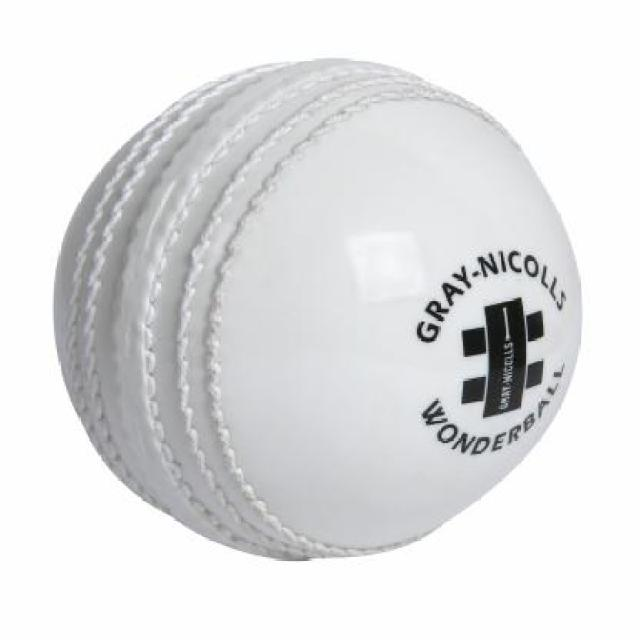ball: (18, 32, 628, 571)
